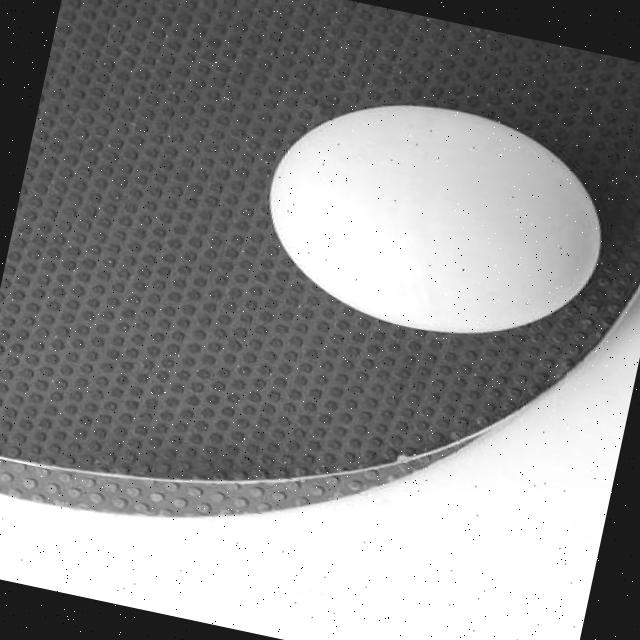ping-pong-ball: (243, 74, 627, 368)
